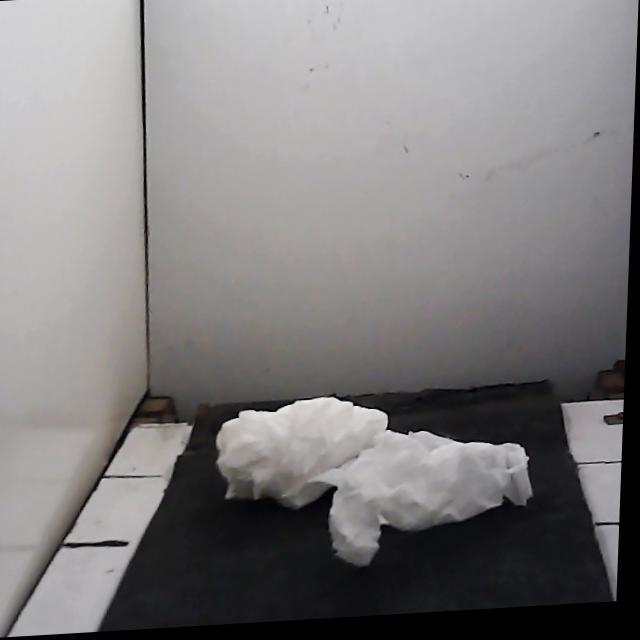papel: (216, 397, 532, 566)
